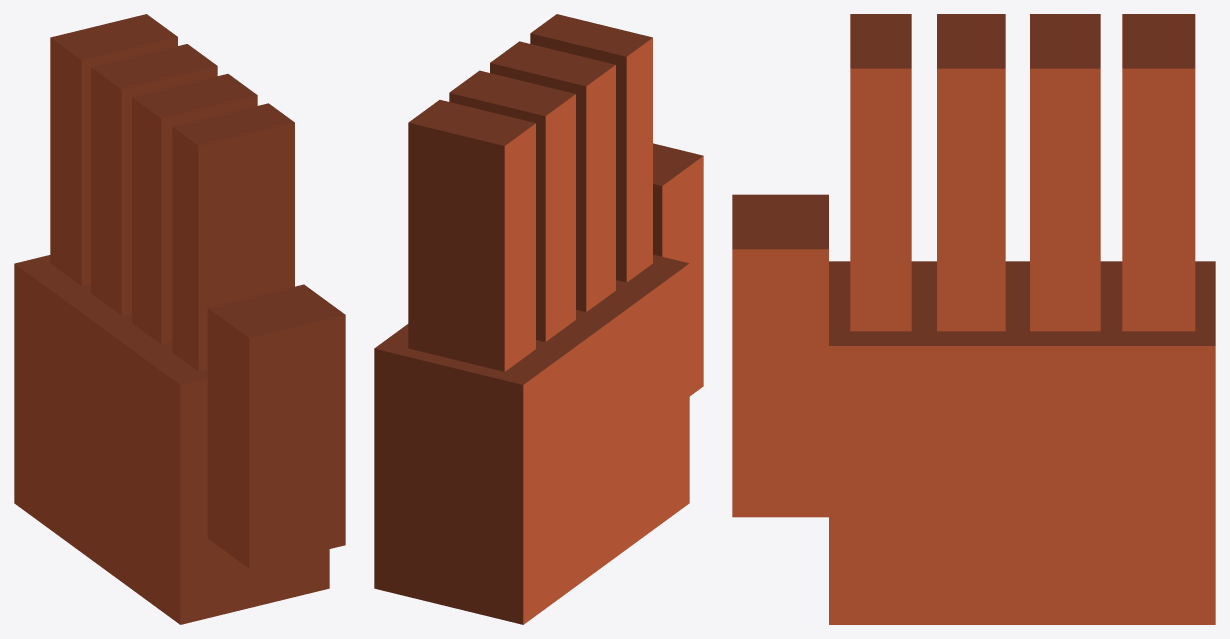
File: Hand_001.fbx
The picture shows the model from 3 angles, left to right: view 1: azimuth 30°, elevation 25°; view 2: azimuth 150°, elevation 25°; view 3: azimuth 270°, elevation 25°; orthographic projection. The views are drawn at different scales.
Visible parts, largest first — view 1: Object003; view 2: Object003; view 3: Object003.
Boxes of the visible parts, x1,y1,x2,y2 form: Object003: (14,14,345,624); Object003: (374,14,703,624); Object003: (732,14,1215,624).
Bounding box in the file's own units: 18.6 × 44.83 × 55.47.
